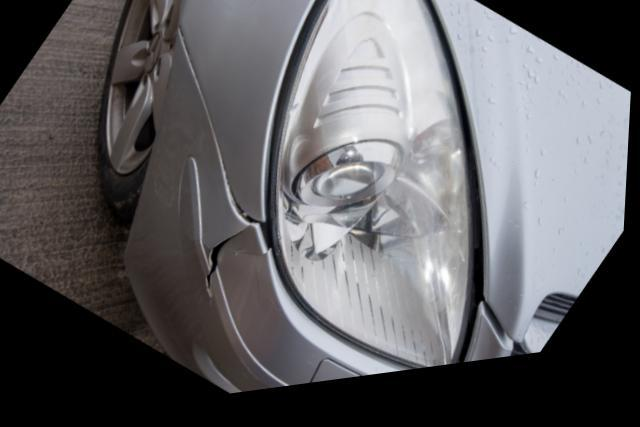crack: (188, 230, 254, 309), (237, 257, 271, 312)
